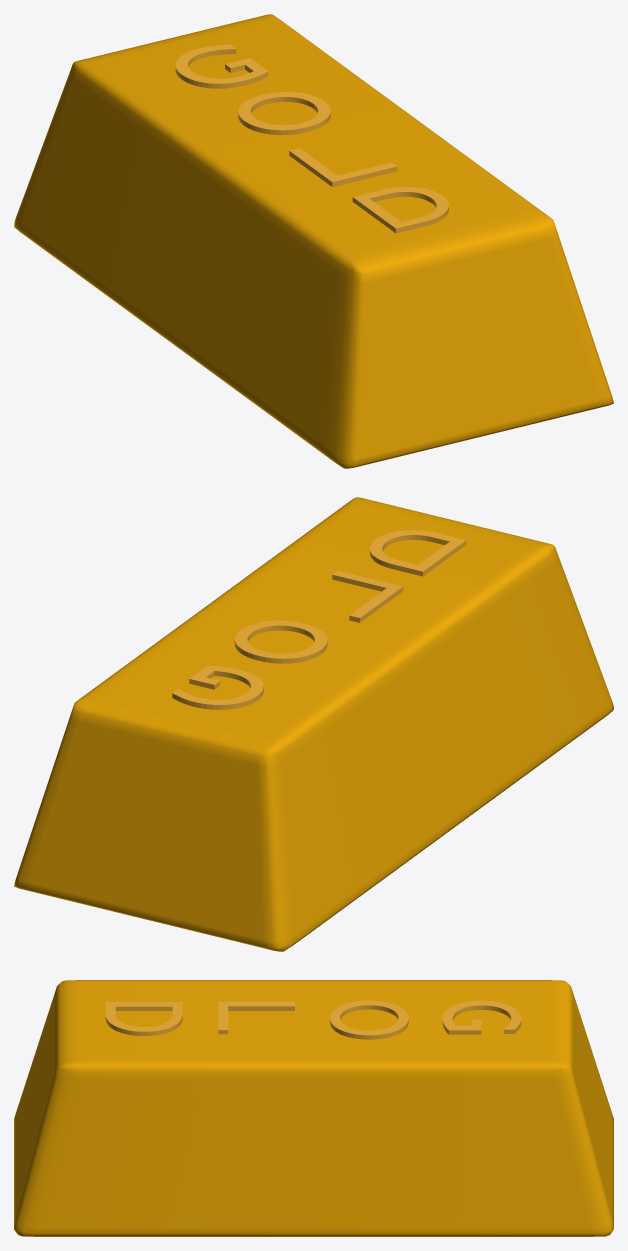
The model's file is GOLD.fbx.
3 renders of one model, top to bottom at view 1: azimuth 30°, elevation 25°; view 2: azimuth 150°, elevation 25°; view 3: azimuth 270°, elevation 25°, orthographic. The views are drawn at different scales.
Parts seen in each view (by area): view 1: Gold; view 2: Gold; view 3: Gold.
Part boxes in pixels (box(x1,y1,x2,y2)): Gold: box(14, 14, 613, 468); Gold: box(14, 497, 613, 951); Gold: box(14, 980, 613, 1236).
Size of the model in its own units: 0.3443 by 0.2193 by 0.7332.
